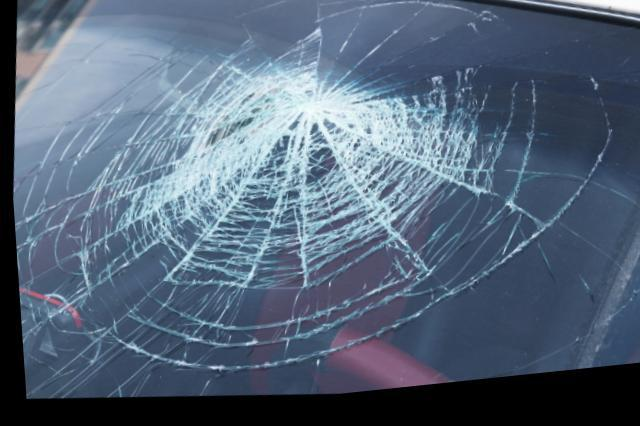glass shatter: (10, 0, 640, 401)
